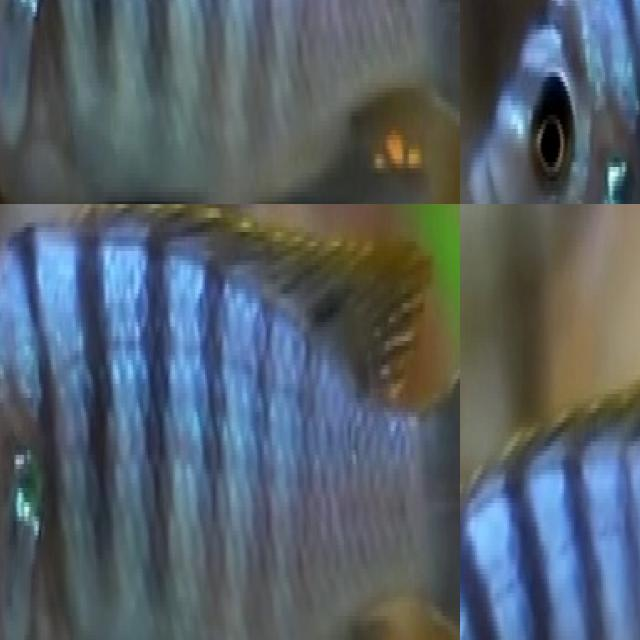fish: (0, 0, 460, 204), (473, 0, 640, 204)
